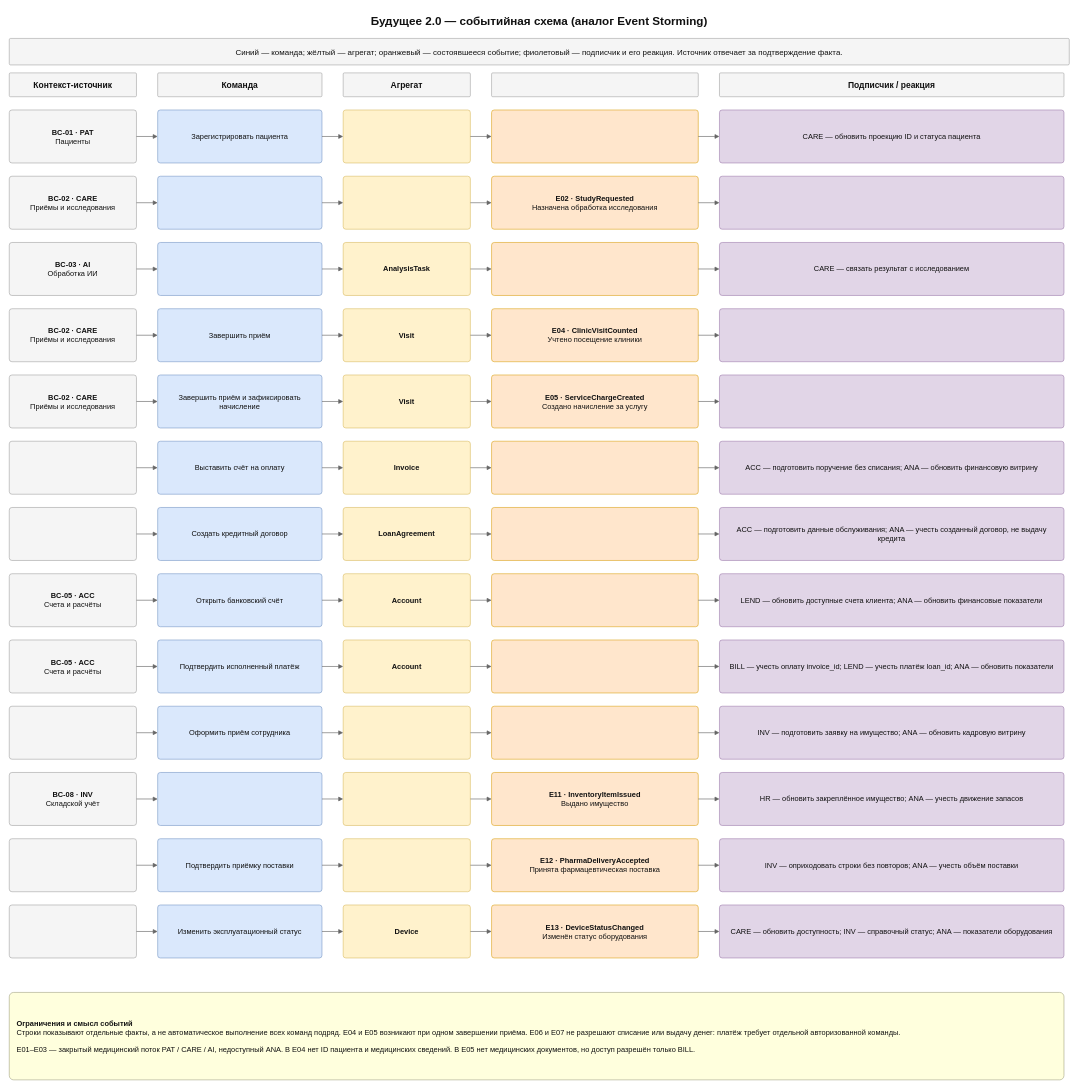
Image size: 1079x1089. Some labels were removed from this diagram. Each missing label, with the centre of its shape:
"AI — создать задание анализа" goes at point 891,202.
"ANA — обновить число посещений" goes at point 891,335.
"BC-04 · LEND Кредитование" goes at point 72,533.
"BC-06 · BILL Начисления и счета" goes at point 72,467.
"BC-07 · HR Кадровый учёт" goes at point 72,732.
"BC-09 · PHARM Фармацевтические поставки" goes at point 72,865.
"BC-10 · EQUIP Управление оборудованием" goes at point 72,931.
"BILL — создать позицию черновика счёта" goes at point 891,401.
"E01 · PatientRegistered Зарегистрирован пациент" goes at point 594,136.
"E03 · AIAnalysisCompleted Исследование обработано ИИ" goes at point 594,268.
"E06 · InvoiceIssued Выставлен счёт на оплату" goes at point 594,467.
"E07 · LoanAgreementCreated Создан кредитный договор" goes at point 594,533.
"E08 · AccountOpened Открыт банковский счёт" goes at point 594,600.
"E09 · PaymentCompleted Исполнен платёж" goes at point 594,666.
"E10 · EmployeeHired Принят сотрудник" goes at point 594,732.
"Employee" goes at point 406,732.
"Patient" goes at point 406,136.
"StockItem" goes at point 406,798.
"Study" goes at point 406,202.
"SupplyOrder" goes at point 406,865.
"Доменное событие" goes at point 594,84.
"Завершить задание и сохранить результат" goes at point 239,268.
"Направить исследование в ИИ" goes at point 239,202.
"Подтвердить выдачу имущества" goes at point 239,798.
